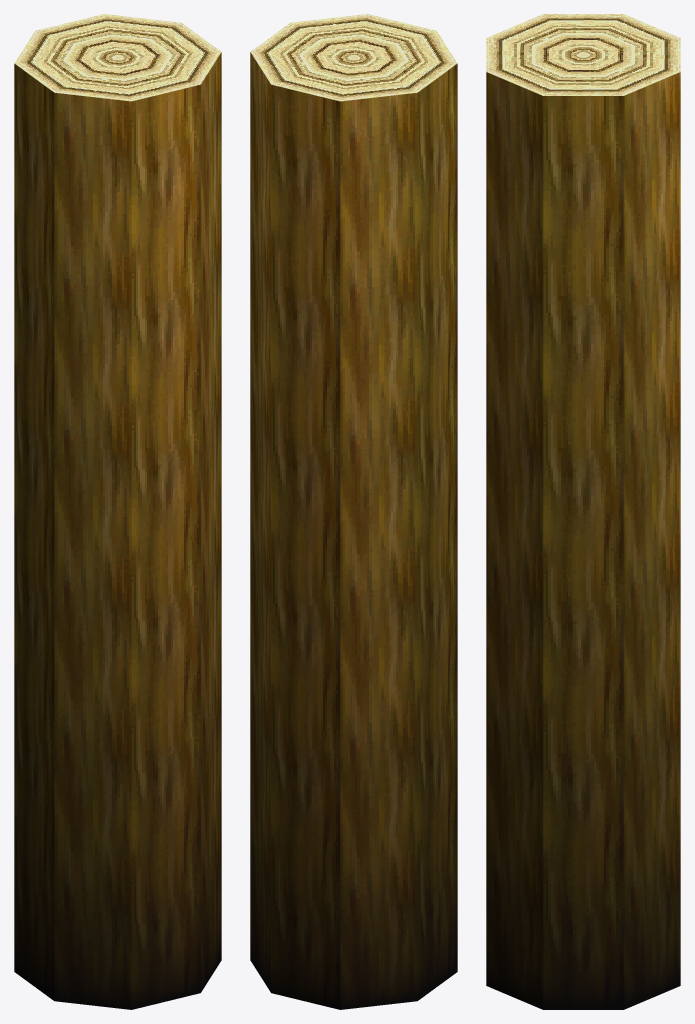
The model's file is emm_log.glb.
3 views of the same model, side by side, from view 1: azimuth 30°, elevation 25°; view 2: azimuth 150°, elevation 25°; view 3: azimuth 270°, elevation 25° (orthographic).
Parts seen in each view (by area): view 1: emm_log; view 2: emm_log; view 3: emm_log.
Part boxes in pixels (bbox=[...]): emm_log: bbox=[14, 14, 221, 1009]; emm_log: bbox=[250, 14, 457, 1009]; emm_log: bbox=[486, 14, 680, 1009].
Bounding box in the file's own units: 0.9023 × 4.69 × 0.9023.
2 materials, 2 textured.
